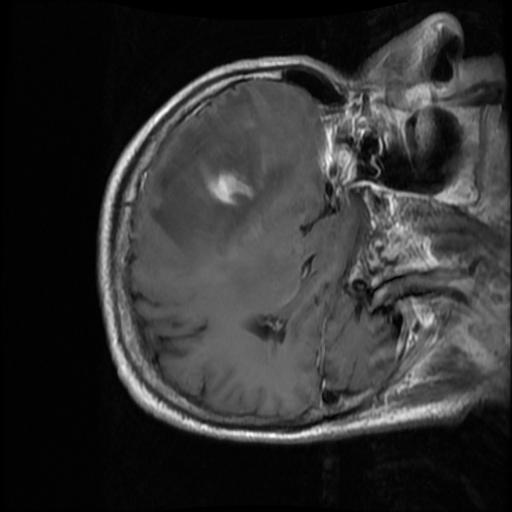glioma: (148, 87, 290, 253)
